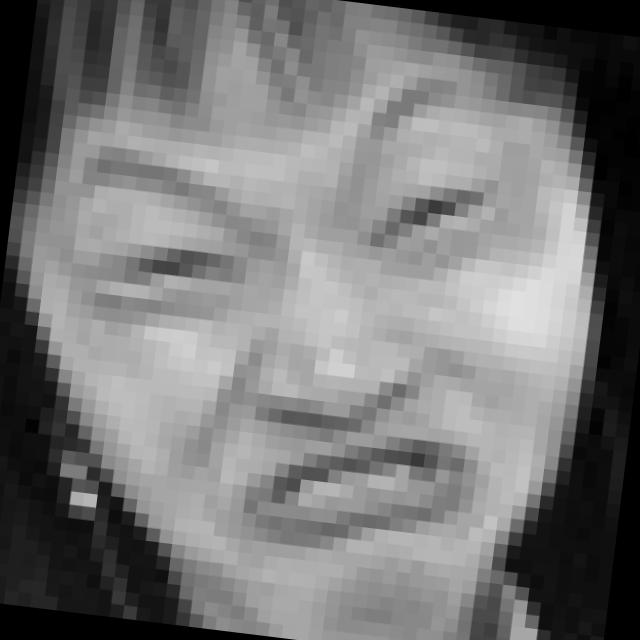disgust: (36, 45, 549, 572)
